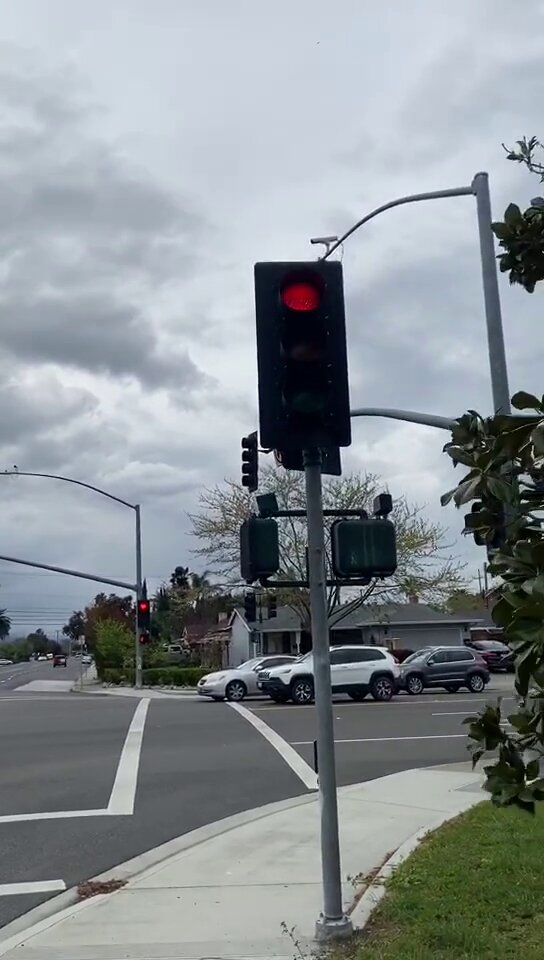red_light: (262, 261, 344, 448), (137, 599, 150, 625)
